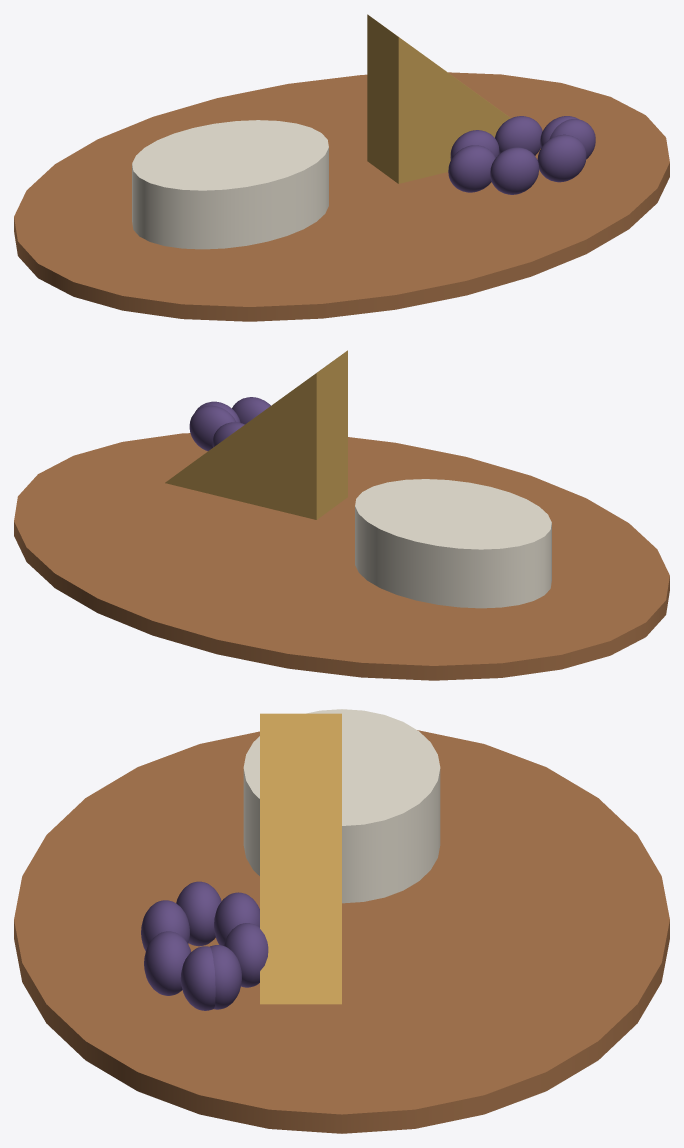
Rendered from wp-plateau-de-fromages.glb.
3 renders of one model, top to bottom at view 1: azimuth 30°, elevation 25°; view 2: azimuth 150°, elevation 25°; view 3: azimuth 270°, elevation 25°, orthographic. The views are drawn at different scales.
Parts seen in each view (by area): view 1: wp-plateau-de-fromages; view 2: wp-plateau-de-fromages; view 3: wp-plateau-de-fromages.
Boxes of the visible parts, x1=… form: wp-plateau-de-fromages: x1=14, y1=14, x2=669, y2=321; wp-plateau-de-fromages: x1=14, y1=350, x2=669, y2=680; wp-plateau-de-fromages: x1=14, y1=709, x2=669, y2=1133.
Size of the model in its own units: 0.45 by 0.13 by 0.32.
